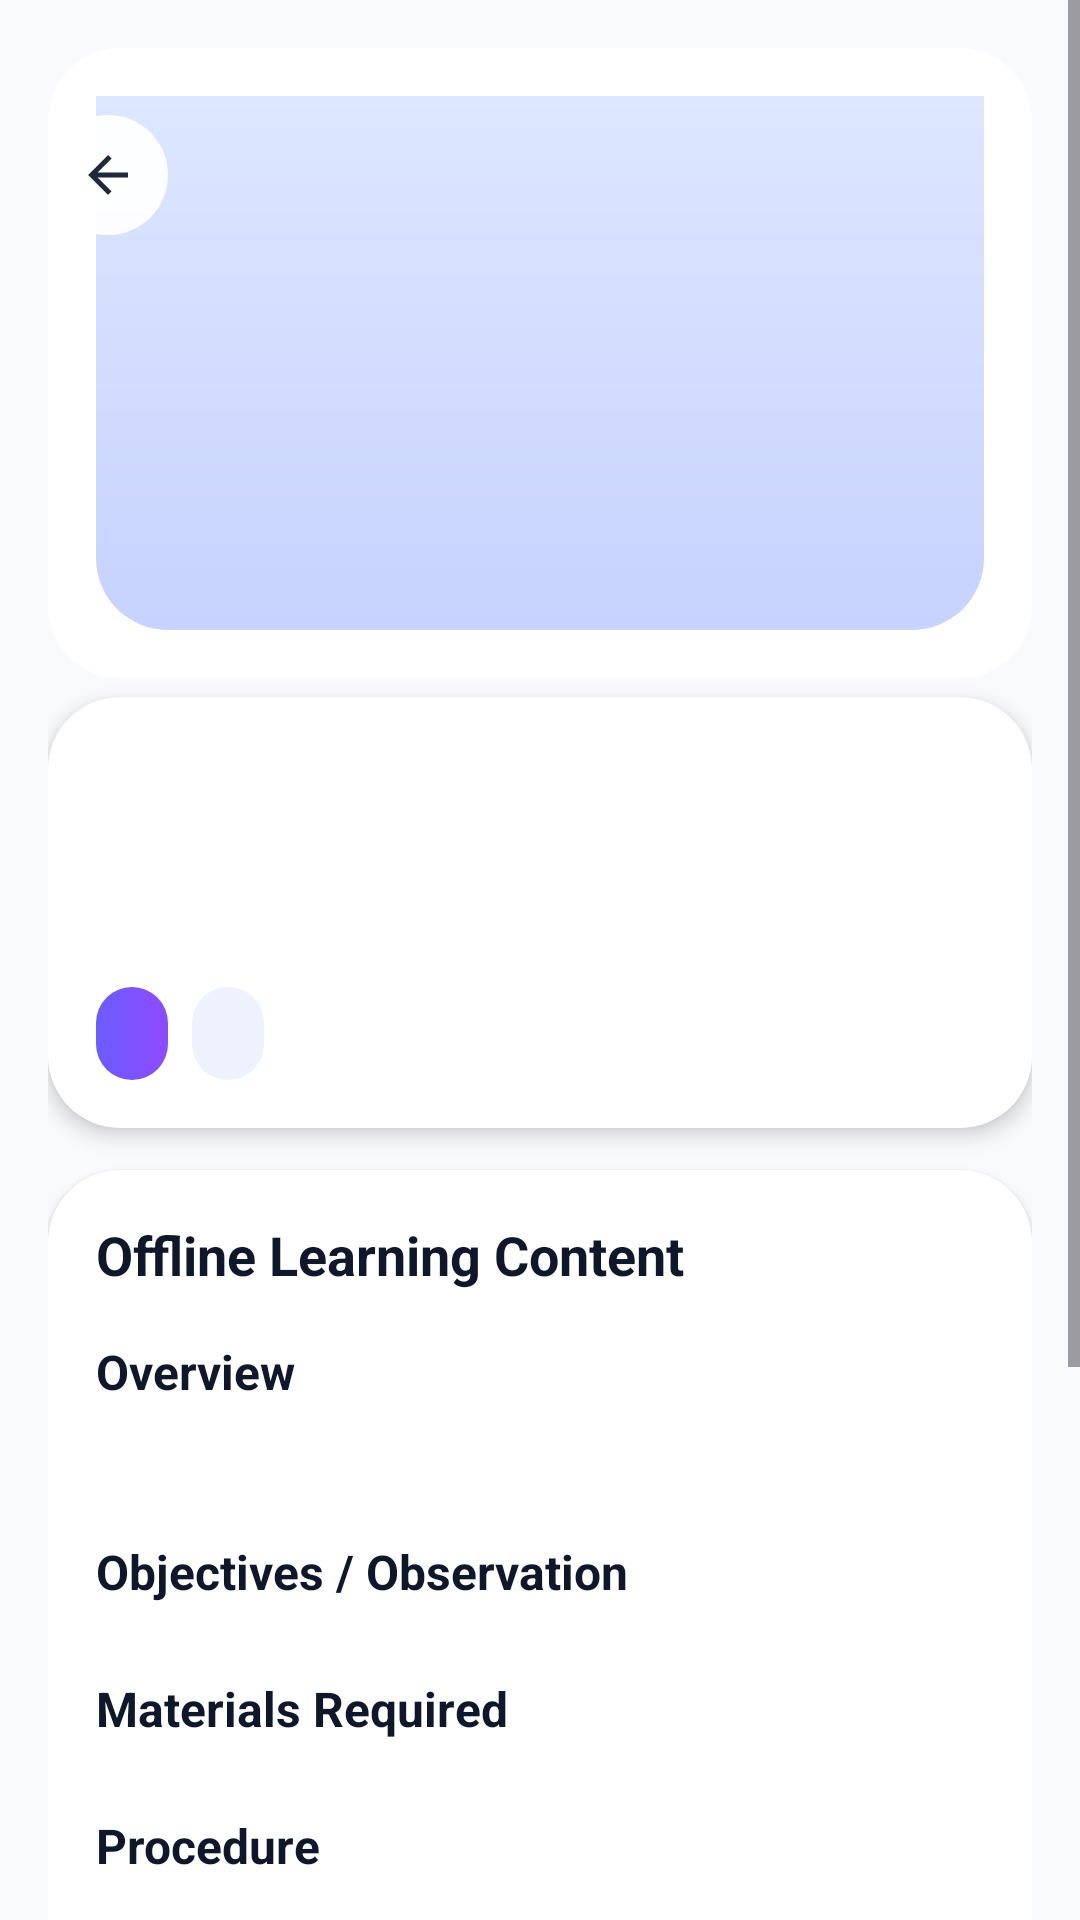

Point at icon controls on the screen. Image size 1080px x 1920px, points as (x,y).
Back: (108,175)
